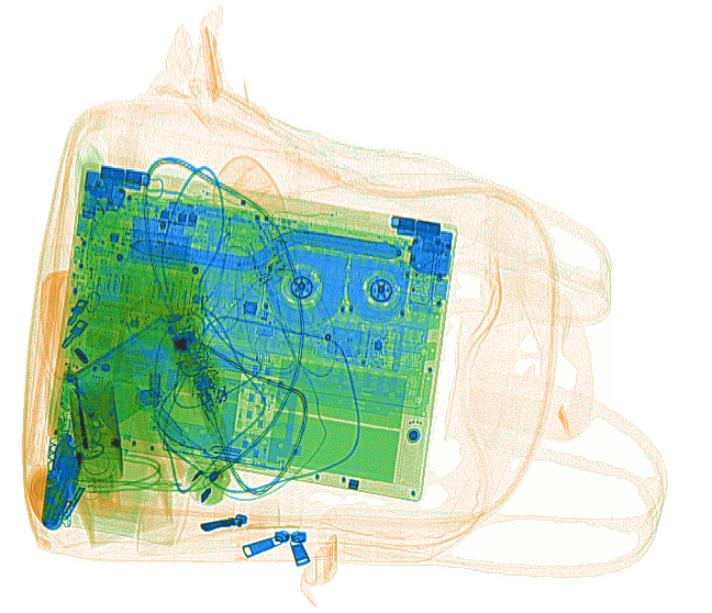knife: (40, 432, 87, 531)
